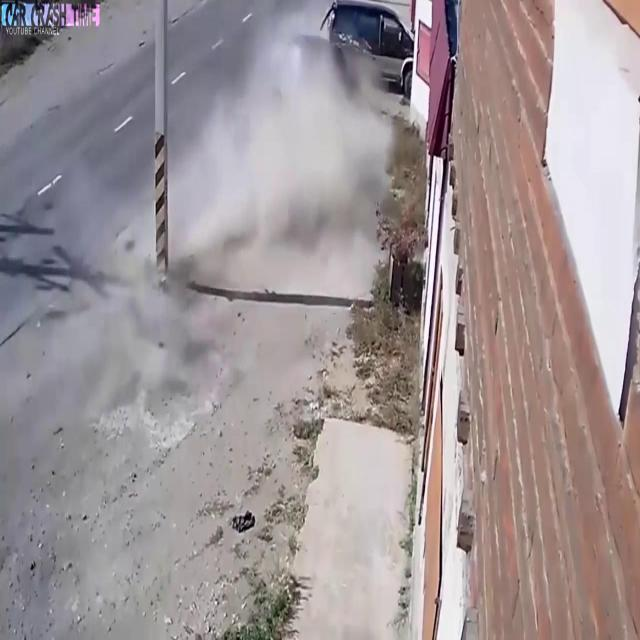accident: (263, 0, 427, 172)
